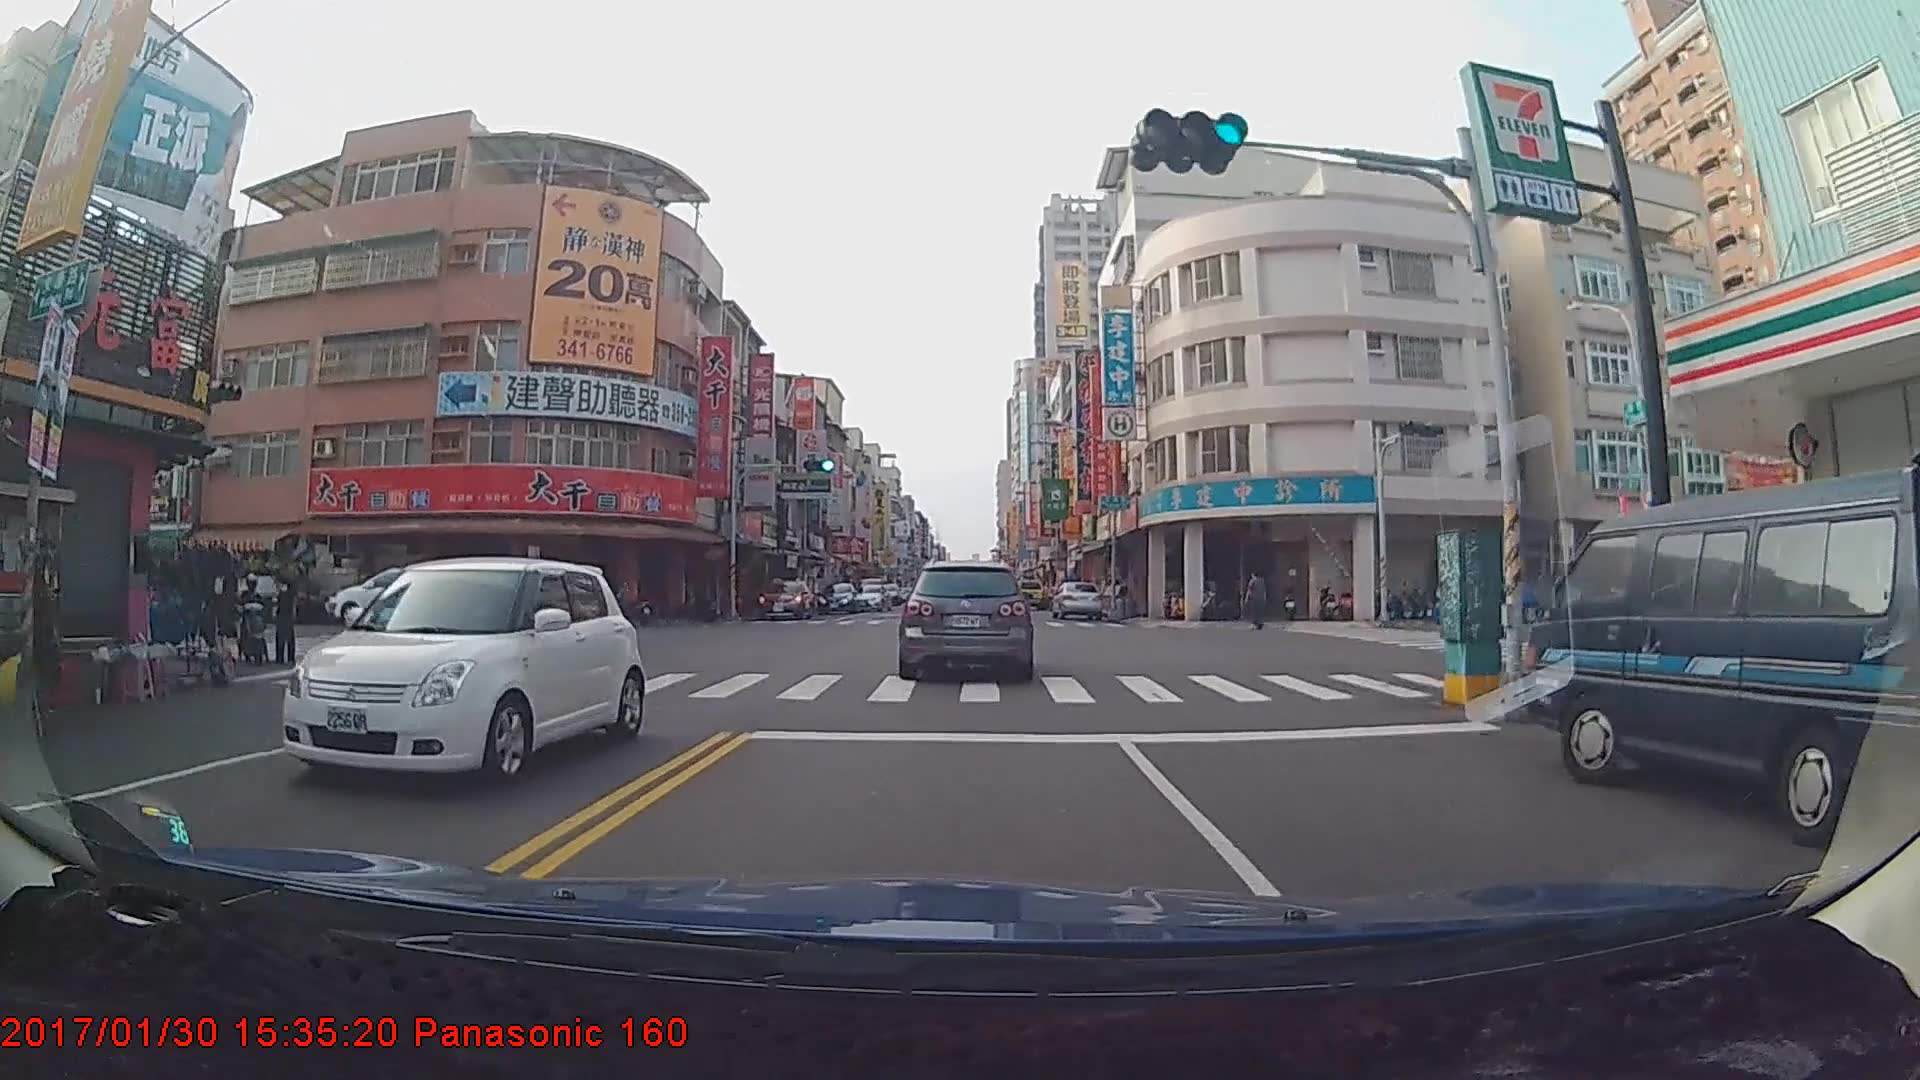pedestrian: (274, 578, 299, 669), (1245, 571, 1271, 634)
rider: (232, 564, 271, 673)
vehicle: (1520, 479, 1920, 841), (278, 552, 646, 790), (900, 560, 1034, 681), (321, 566, 466, 630), (759, 576, 811, 620), (1051, 579, 1104, 621), (816, 583, 858, 614), (1009, 581, 1045, 616), (850, 586, 891, 615)
